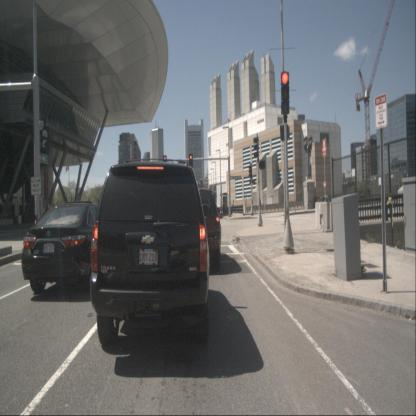human-pedestrian-adult: (222, 200, 226, 216)
vehicle-car: (90, 161, 212, 345), (21, 200, 107, 294), (168, 188, 222, 270)
